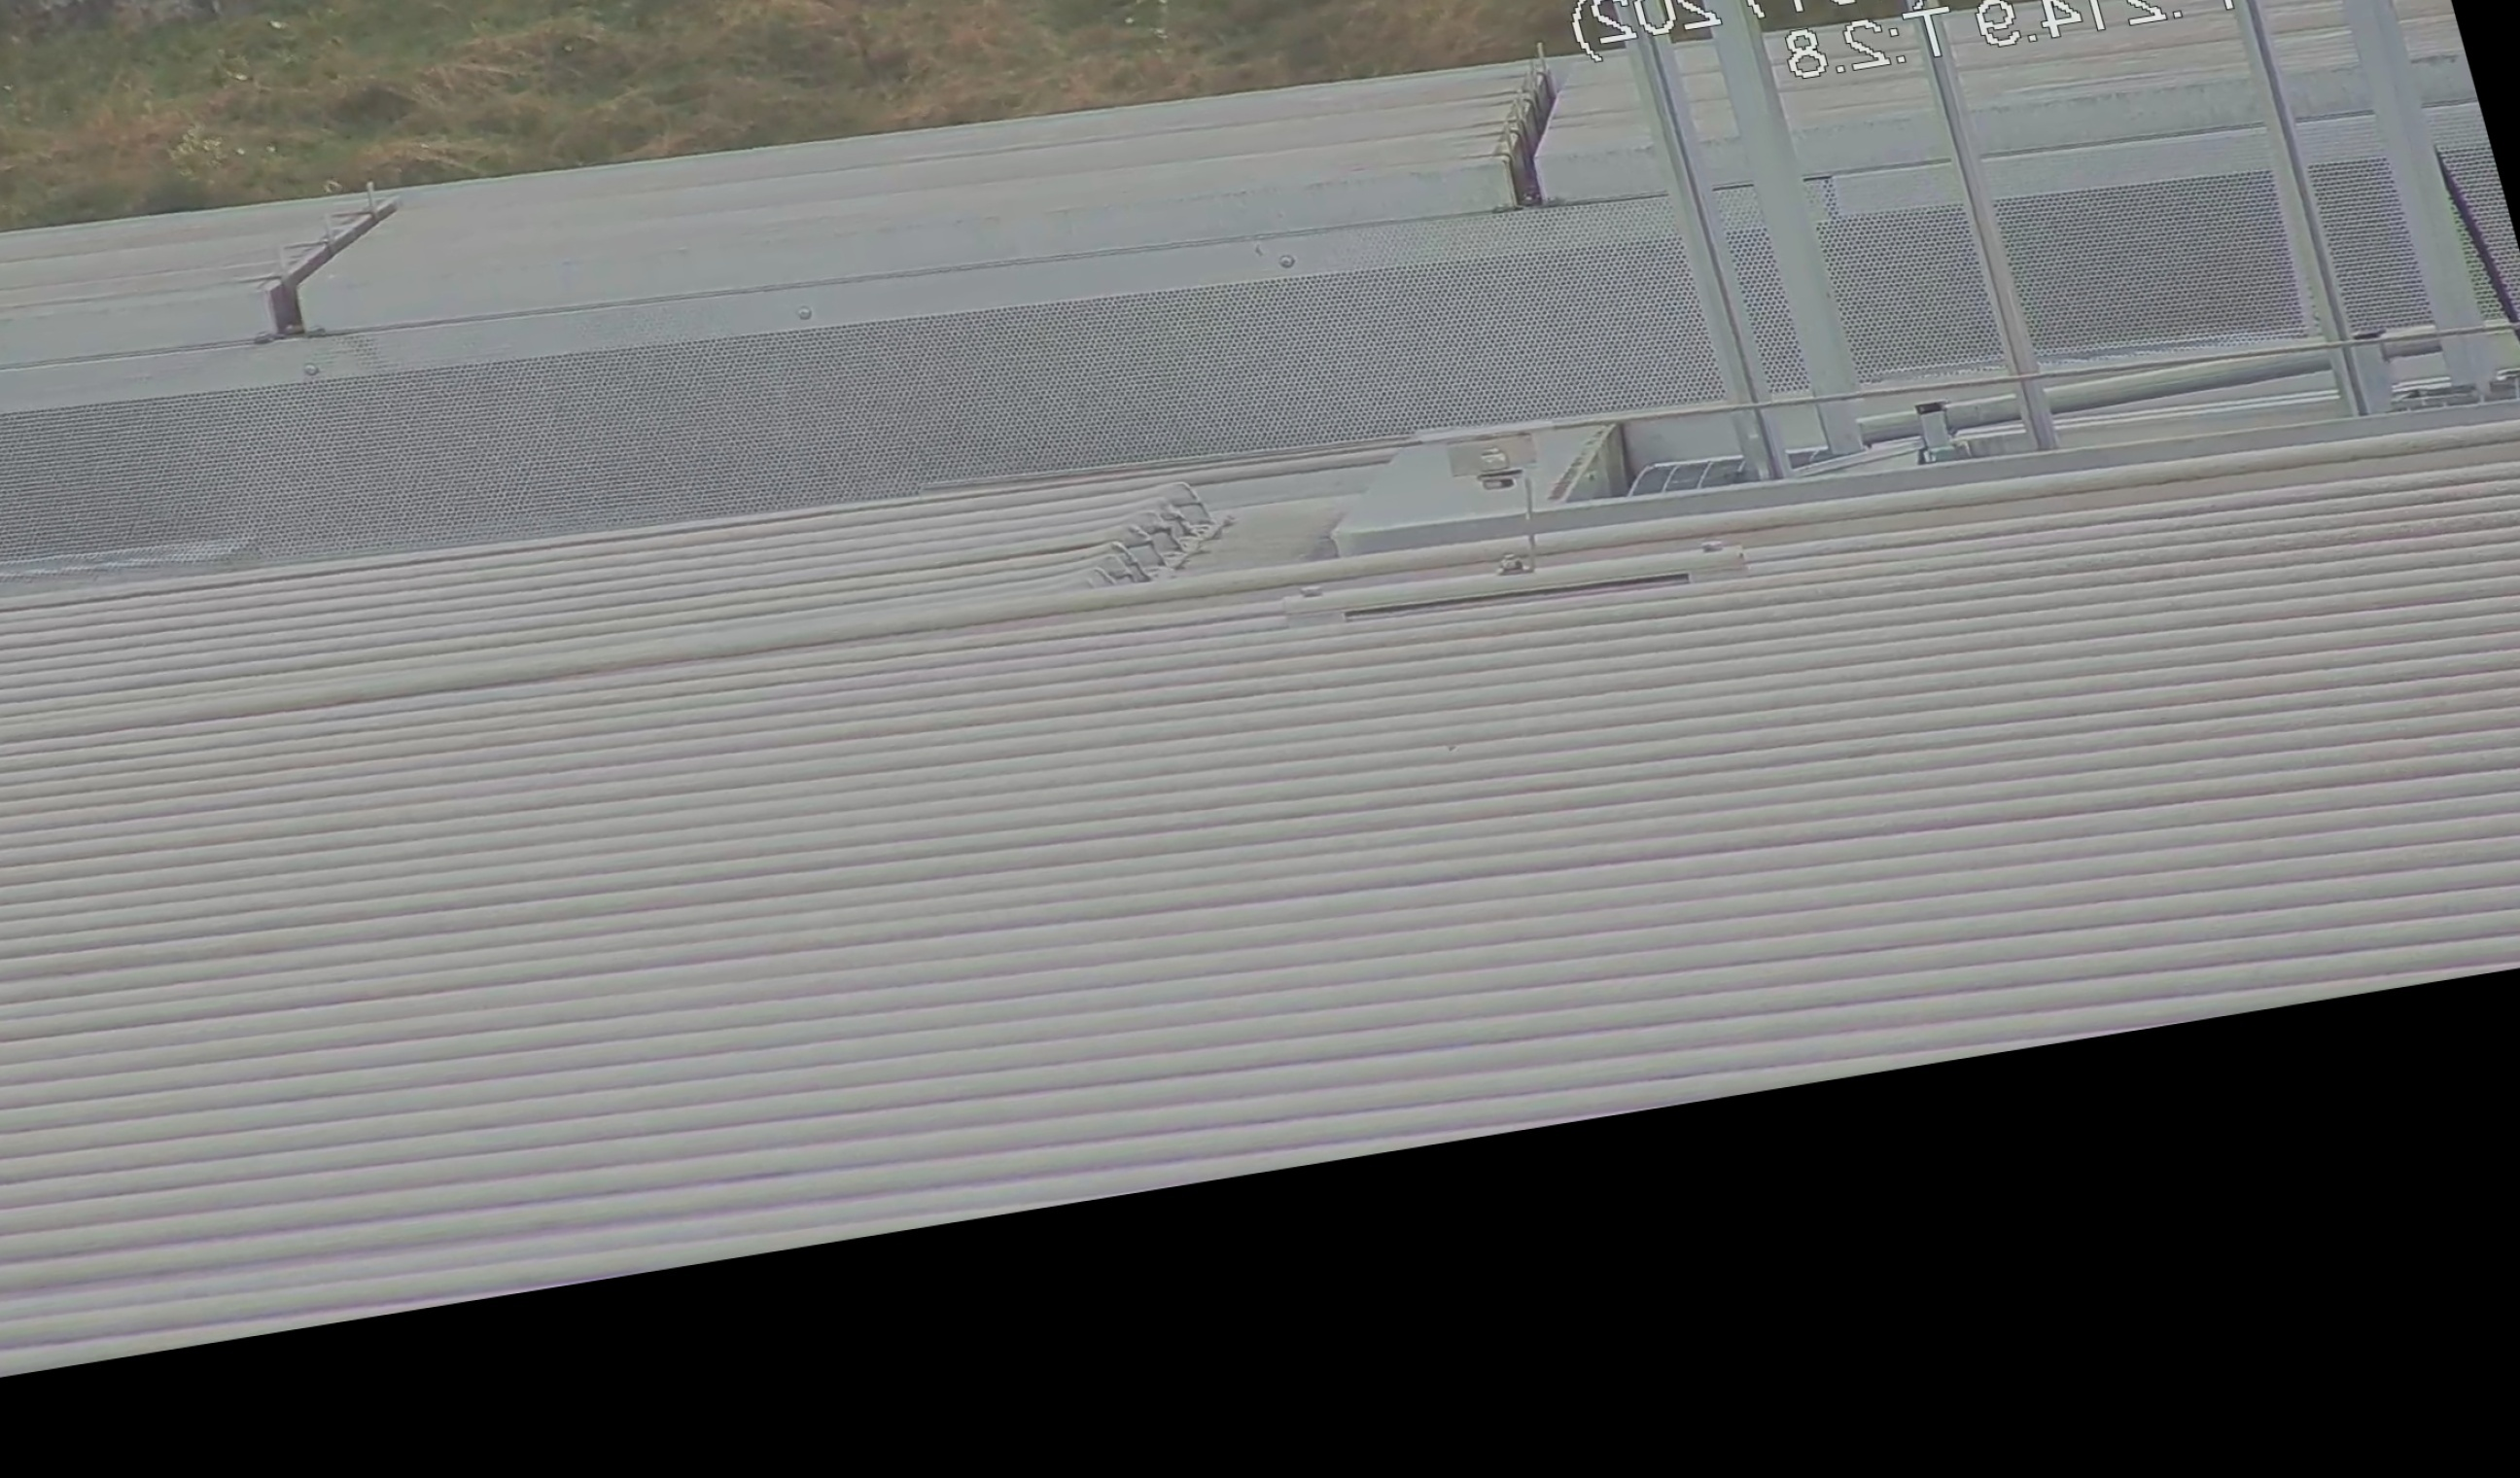Other: (1460, 26, 1634, 208)
